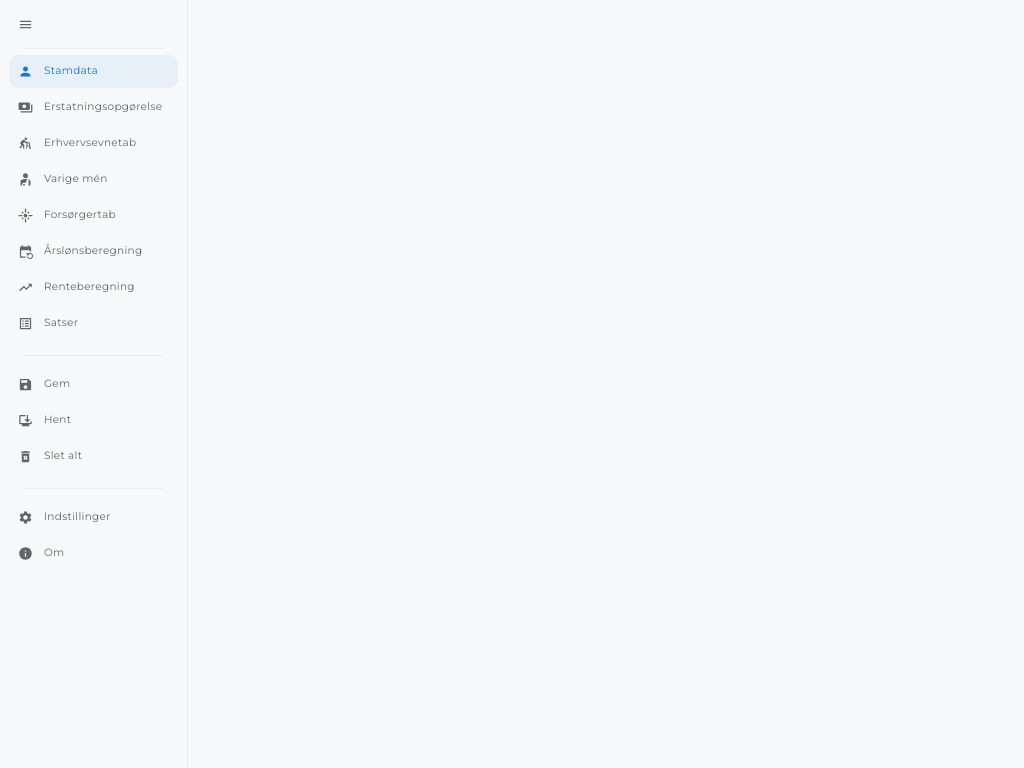
it: MainLayout – overlayet ejer Ctrl+S (BB-050) › gør intet ved Ctrl+S, mens en bekræftelsesdialog står åben
Click the button "Slet alt".
click(93, 456)  # box [9,440,178,473]
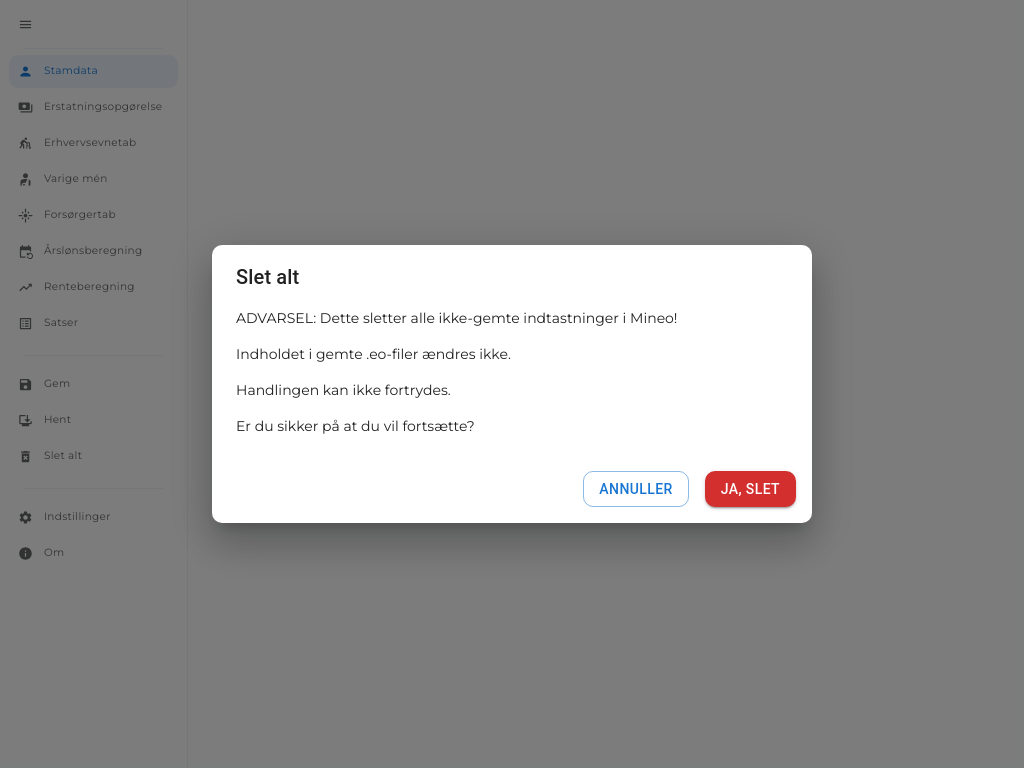
Now the dialog is shown, box [212,245,812,523]
